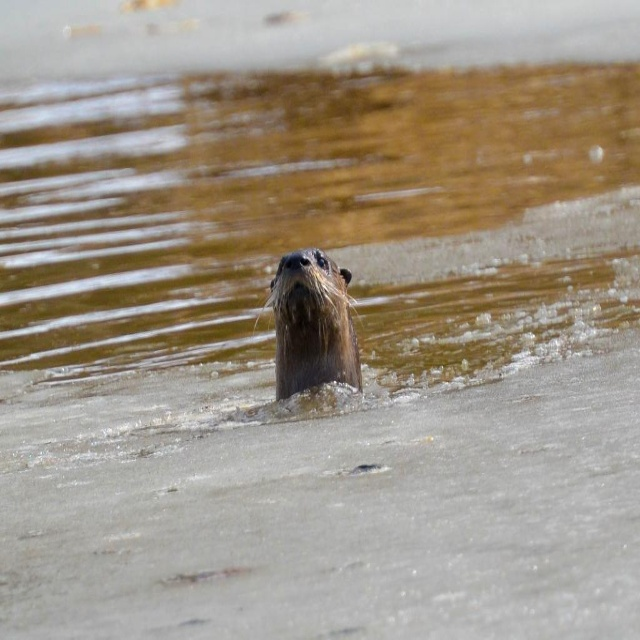Otter: (253, 247, 364, 401)
